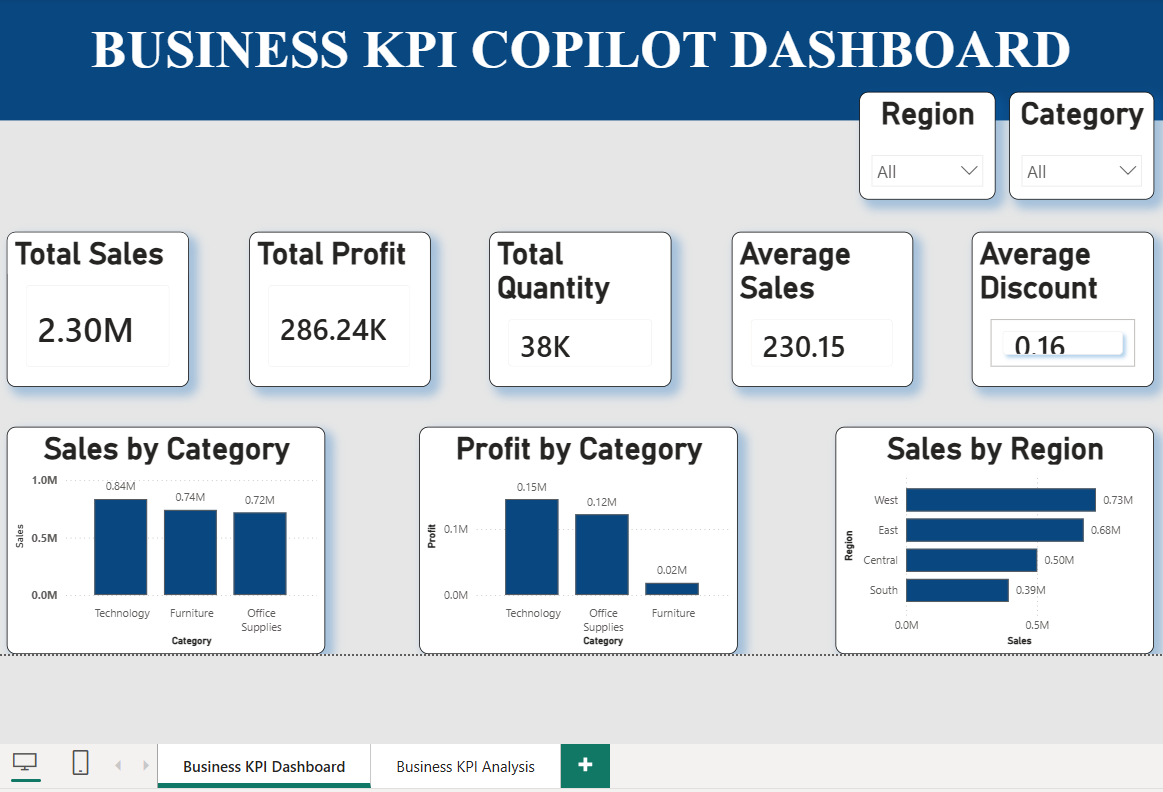

Layout of this report page (visuals, bound fields, positions):
{"tool":"powerbi","page":{"name":"Business KPI Dashboard ","canvas":[1280,720],"ordinal":0},"visuals":[{"type":"textbox","box":[0,0,1280.3,134.5],"z":0},{"type":"cardVisual","title":"Total Sales","fields":{"Data":["Sum(Sheet1.Sales)"]},"box":[9.6,256.6,200.3,170.2],"z":1000},{"type":"cardVisual","title":"Total Profit","fields":{"Data":["Sum(Sheet1.Profit)"]},"box":[275.1,256.6,199,170.2],"z":2000},{"type":"cardVisual","title":"Total Quantity","fields":{"Data":["Sum(Sheet1.Quantity)"]},"box":[539.3,256.6,200.3,170.2],"z":3000},{"type":"cardVisual","title":"Average Sales","fields":{"Data":["Avg(Sheet1.Sales)"]},"box":[804.8,256.6,199,170.2],"z":4000},{"type":"cardVisual","title":"Average Discount","fields":{"Data":["Avg(Sheet1.Discount)"]},"box":[1069,256.6,200.3,170.2],"z":5000},{"type":"clusteredColumnChart","title":"Sales by Category","fields":{"Category":["Sheet1.Category"],"Y":["Sum(Sheet1.Sales)"]},"box":[9.6,470.7,349.9,249.7],"z":6000},{"type":"clusteredColumnChart","title":"Profit by Category","fields":{"Category":["Sheet1.Category"],"Y":["Sum(Sheet1.Profit)"]},"box":[462.4,470.7,349.9,249.7],"z":7000},{"type":"clusteredBarChart","title":"Sales by Region","fields":{"Category":["Sheet1.Region"],"Y":["Sum(Sheet1.Sales)"]},"box":[919.4,470.7,349.9,249.7],"z":8000},{"type":"slicer","title":"Region","fields":{"Values":["Sheet1.Region"]},"box":[945.5,102.9,149.6,118],"z":8001},{"type":"slicer","title":"Category","fields":{"Values":["Sheet1.Category"]},"box":[1110.1,102.9,159.2,118],"z":8002}]}

Visuals, with their boxes on the page's 1280x720 design canvas (x1, y1, x2, y2). These are canvas units, not pixel positions in the 1163x792 screenshot, which may show the page scaled, cropped or inside an application window:
textbox: [x1=0, y1=0, x2=1280, y2=134]
"Total Sales" cardVisual: [x1=10, y1=257, x2=210, y2=427]
"Total Profit" cardVisual: [x1=275, y1=257, x2=474, y2=427]
"Total Quantity" cardVisual: [x1=539, y1=257, x2=740, y2=427]
"Average Sales" cardVisual: [x1=805, y1=257, x2=1004, y2=427]
"Average Discount" cardVisual: [x1=1069, y1=257, x2=1269, y2=427]
"Sales by Category" clusteredColumnChart: [x1=10, y1=471, x2=360, y2=720]
"Profit by Category" clusteredColumnChart: [x1=462, y1=471, x2=812, y2=720]
"Sales by Region" clusteredBarChart: [x1=919, y1=471, x2=1269, y2=720]
"Region" slicer: [x1=946, y1=103, x2=1095, y2=221]
"Category" slicer: [x1=1110, y1=103, x2=1269, y2=221]
